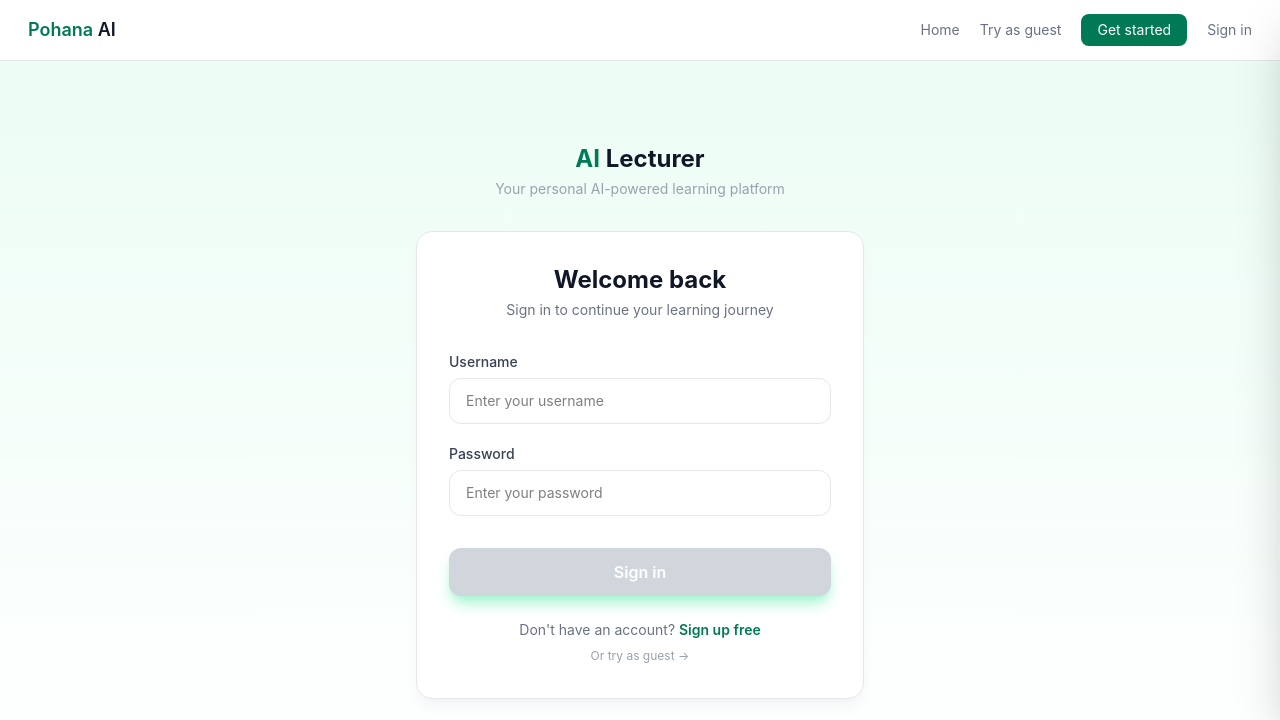
Test: Authentication › TC-06: Login with wrong password shows error
Step 1. Type "wronguser" into the field with placeholder "Enter your username" → point(640, 401), box [449,378,831,424]
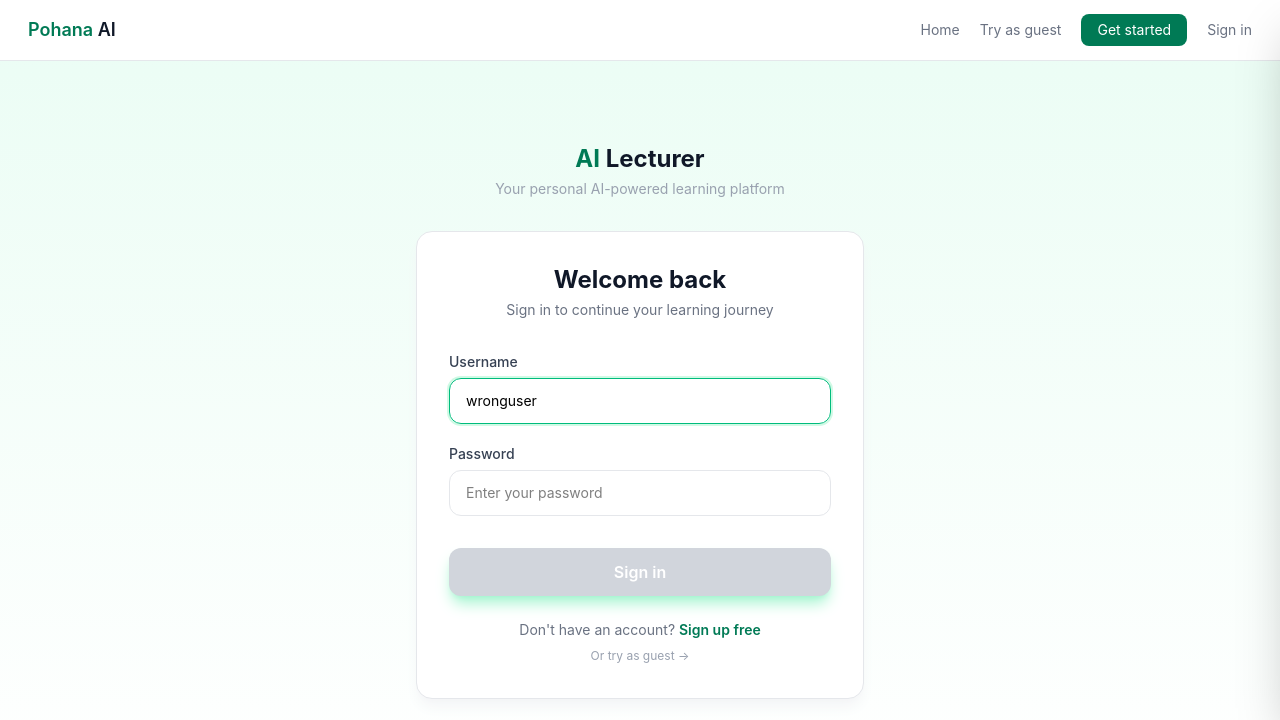
Step 2. Type "wrongpassword" into the password field with placeholder "Enter your password" → point(640, 493), box [449,470,831,516]
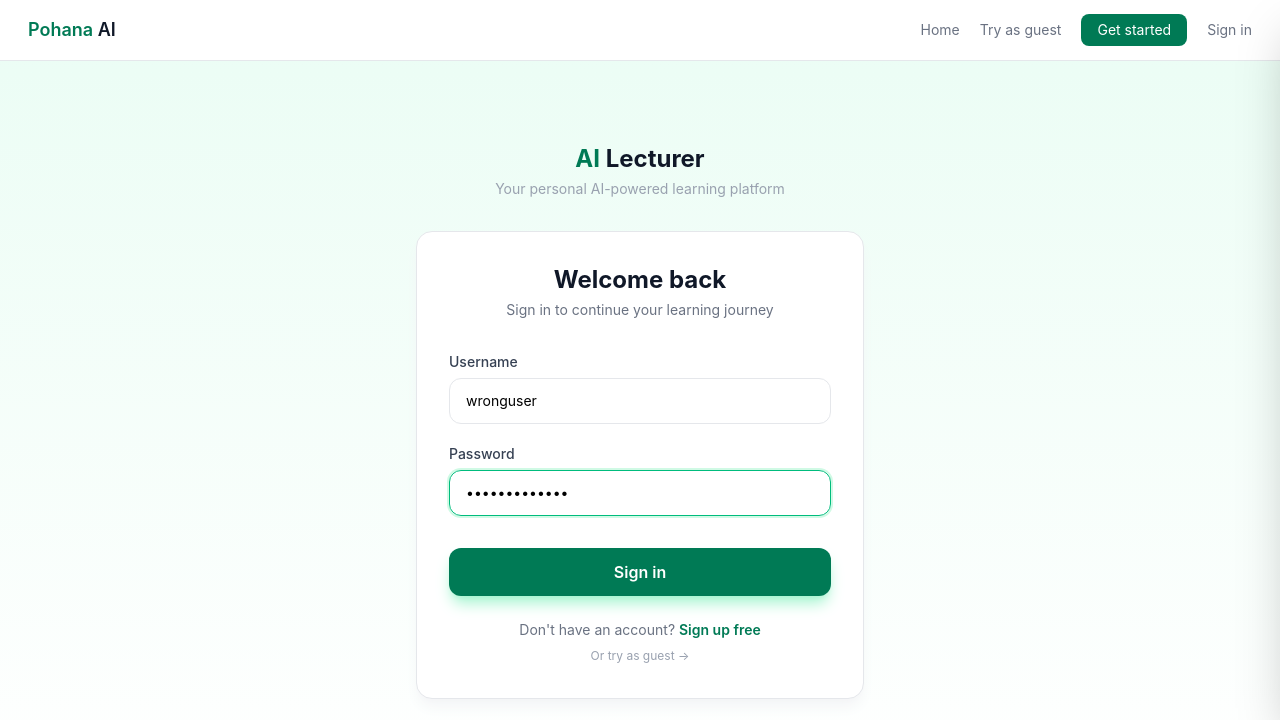
Step 3. Click the button "Sign in" → point(640, 572), box [449,548,831,596]
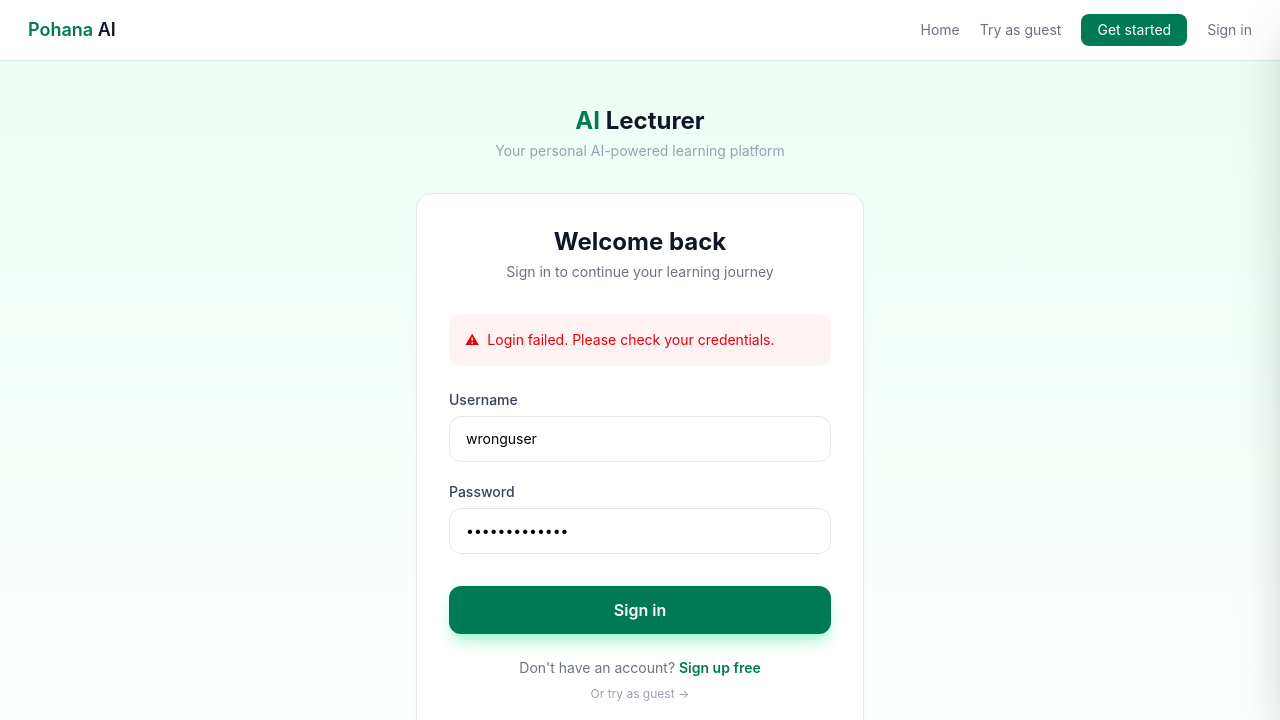
Result: the element showing "⚠ Login failed. Please check your credentials." is shown at [449,314,831,366]
